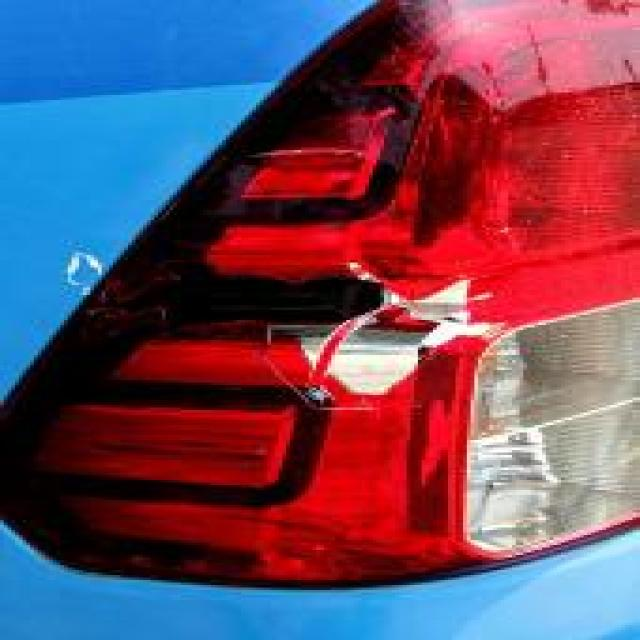Light: (177, 125, 614, 552)
